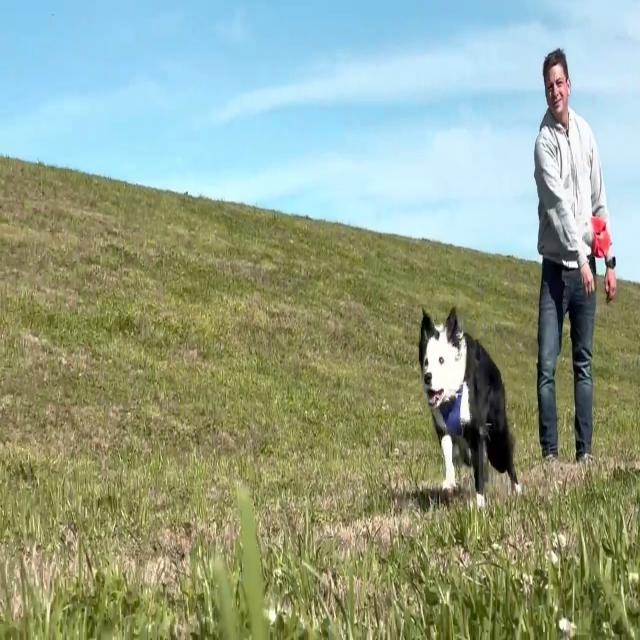Unleashed_Dog: (419, 308, 561, 508)
